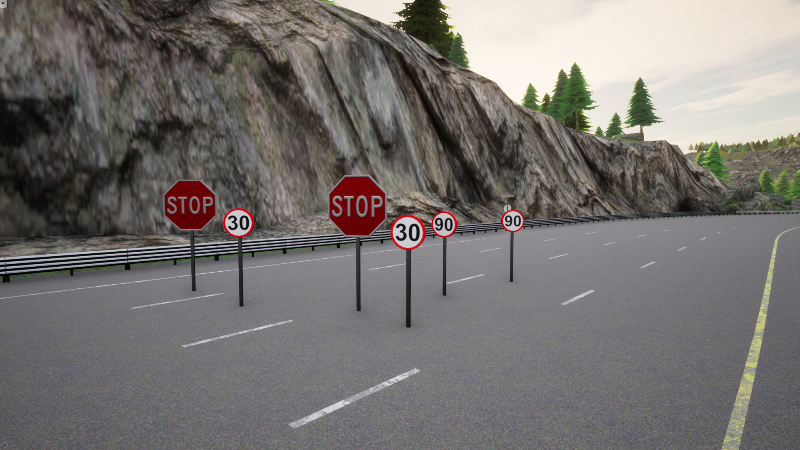fast: (430, 211, 458, 239), (501, 209, 526, 233)
slow: (390, 215, 426, 251), (223, 207, 255, 238)
stop: (328, 175, 387, 238), (162, 179, 218, 232)
